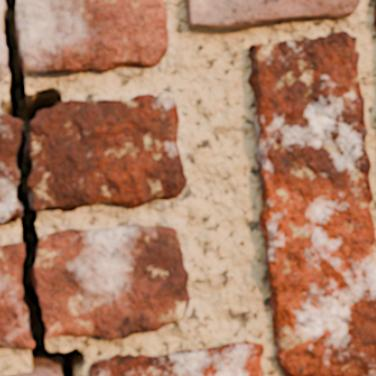brick: (249, 33, 375, 375), (91, 343, 263, 375), (187, 0, 360, 29), (11, 373, 58, 375)
broken_brick: (30, 93, 188, 212), (37, 223, 190, 340), (18, 0, 169, 74), (0, 242, 33, 351), (0, 112, 20, 223), (0, 30, 8, 84), (0, 0, 2, 24)
crack: (0, 0, 86, 375)
